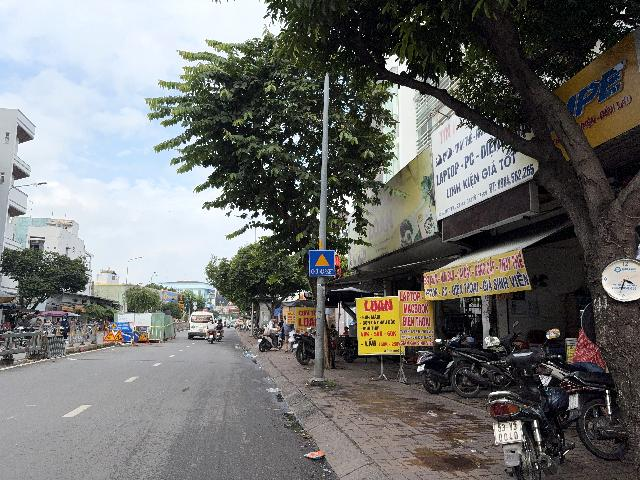khu-vuc-cho-phia-truoc: (309, 250, 336, 277)
